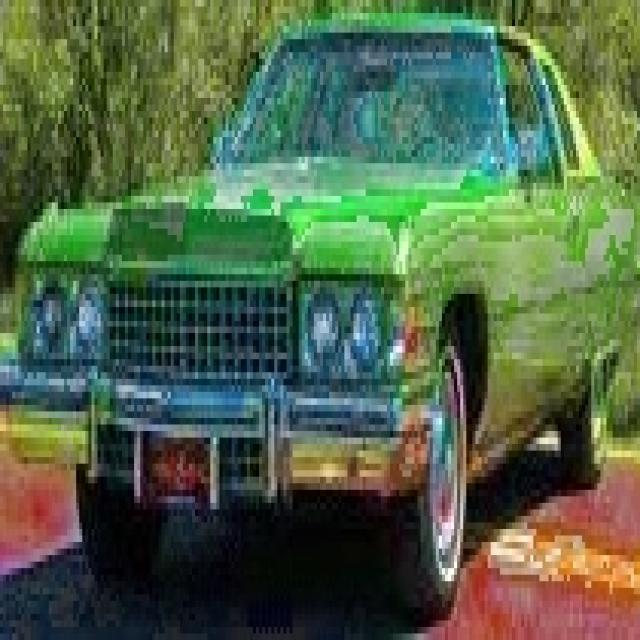green: (0, 10, 640, 617)
